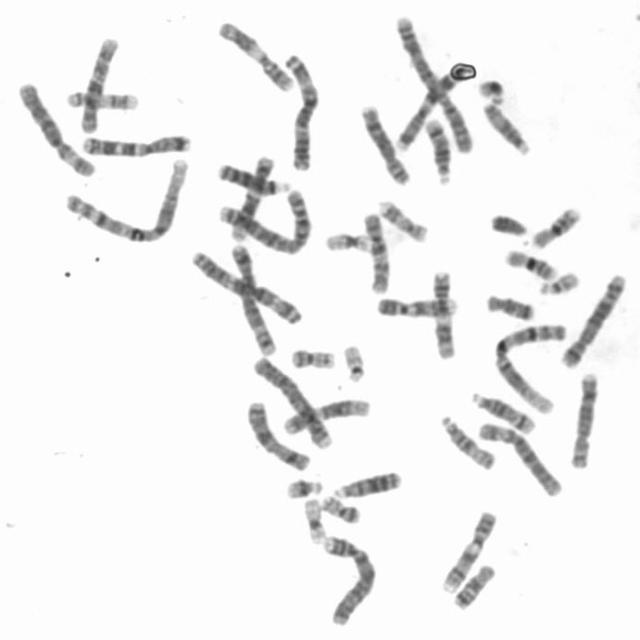A1: (60, 153, 191, 245), (489, 316, 571, 416)
A2: (390, 8, 477, 155), (215, 183, 314, 256)
A3: (186, 244, 306, 326), (279, 47, 321, 172)
B4: (248, 349, 336, 451), (316, 528, 379, 627)
B5: (557, 267, 629, 369), (225, 238, 279, 358)
C10: (75, 31, 121, 135), (358, 207, 392, 296)
C11: (213, 15, 297, 94), (427, 263, 458, 361)
C12: (225, 150, 277, 242), (278, 394, 373, 436)
C6: (13, 77, 97, 180), (474, 415, 566, 499)
C7: (390, 62, 472, 152), (77, 128, 193, 159)
C8: (356, 98, 413, 186), (565, 366, 602, 470)
C9: (437, 505, 499, 594), (370, 290, 460, 319)
D13: (215, 159, 293, 195), (328, 465, 404, 501)
D14: (466, 386, 536, 435), (420, 113, 455, 185)
D15: (436, 409, 498, 472), (479, 97, 533, 157)
E16: (526, 200, 584, 250), (500, 243, 560, 281)
E17: (373, 193, 431, 244), (61, 84, 142, 112)
E18: (449, 558, 498, 612), (481, 287, 538, 322)
F19: (299, 492, 329, 546), (321, 226, 374, 254)
F20: (316, 490, 363, 524), (285, 342, 339, 370)
G21: (281, 472, 325, 500), (473, 72, 508, 106)
G22: (534, 266, 582, 296), (338, 338, 369, 384)
X: (244, 396, 314, 473)
Y: (486, 209, 530, 238)
